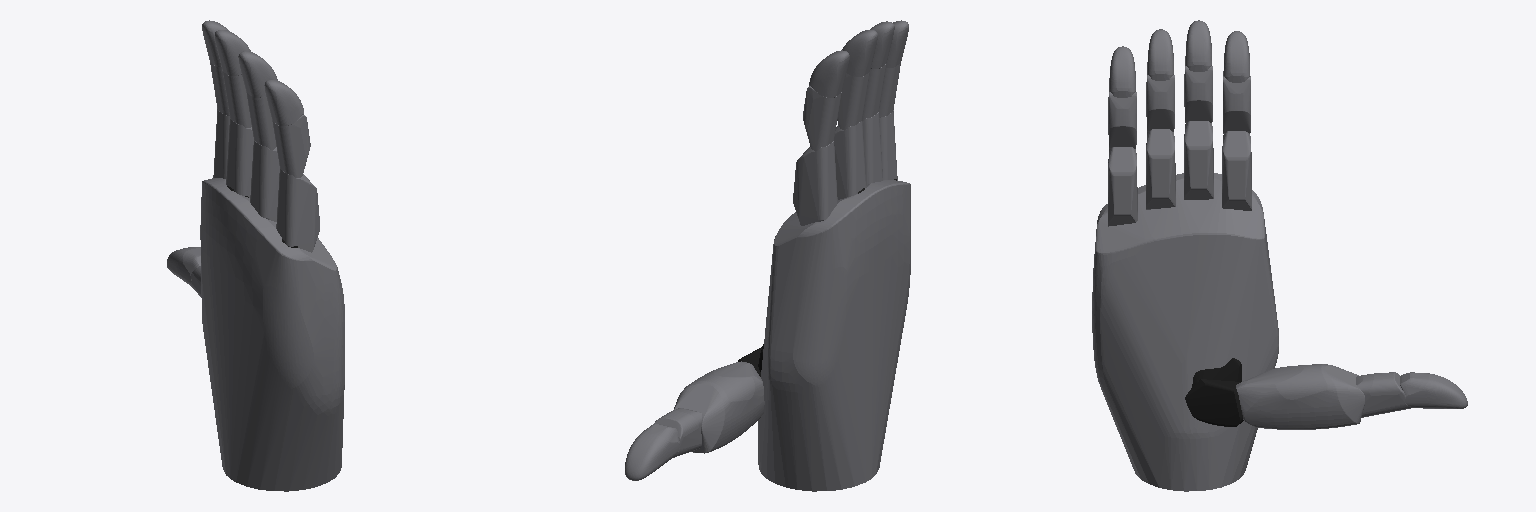
URDF robot description (linkerhand_l20_right):
<robot name="linkerhand_l20_right">
  <material name="silver">
    <color rgba="0.5 0.5 0.52 1.0" />
  </material>

  <material name="BlackAccent">
    <color rgba="0.15 0.15 0.15 1.0" />
  </material>
  <link name="base_link">
    <inertial>
      <origin xyz="-0.0116260966942382 -0.00274813279998326 0.0887556064299578" rpy="0 0 0" />
      <mass value="0.119355521222427" />
      <inertia ixx="0.000281608895823112" ixy="8.38474241472843E-07" ixz="-1.21134466138976E-05" iyy="0.00019328567036429" iyz="4.38631241419914E-07" izz="0.000103627416878272" />
    </inertial>
    <visual>
      <origin xyz="0 0 0" rpy="0 0 0" />
      <geometry>
        <mesh filename="../../../third_party/linkerhand-urdf/L20/right/meshes/base_link.STL" />
      </geometry>
      <material name="silver" />
    </visual>
    <collision>
      <origin xyz="0 0 0" rpy="0 0 0" />
      <geometry>
        <mesh filename="collision/base_link.STL" />
      </geometry>
    </collision>
  </link>
  <link name="pinky_metacarpals">
    <inertial>
      <origin xyz="0.0111783787153197 1.73988259632996E-08 0.00220160108534925" rpy="0 0 0" />
      <mass value="0.000876738307234833" />
      <inertia ixx="3.50684268310259E-08" ixy="-2.01255880662754E-13" ixz="5.24776532940736E-09" iyy="2.68810255289946E-08" iyz="-3.6732684106161E-14" izz="4.23561712818563E-08" />
    </inertial>
    <visual>
      <origin xyz="0 0 0" rpy="0 0 0" />
      <geometry>
        <mesh filename="../../../third_party/linkerhand-urdf/L20/right/meshes/pinky_metacarpals.STL" />
      </geometry>
      <material name="BlackAccent" />
    </visual>
    <collision>
      <origin xyz="0 0 0" rpy="0 0 0" />
      <geometry>
        <mesh filename="collision/pinky_metacarpals.STL" />
      </geometry>
    </collision>
  </link>
  <joint name="pinky_mcp_roll" type="revolute">
    <origin xyz="-0.028576 -0.038102 0.15031" rpy="0 0 0" />
    <parent link="base_link" />
    <child link="pinky_metacarpals" />
    <axis xyz="1 0 0" />
    <limit lower="-0.17" upper="0.17" effort="1" velocity="1" />
  </joint>
  <link name="pinky_proximal">
    <inertial>
      <origin xyz="-0.00112908280804496 -3.86673394475734E-06 0.0228400655439676" rpy="0 0 0" />
      <mass value="0.00451758867960127" />
      <inertia ixx="6.70005738245491E-07" ixy="1.07100998730671E-11" ixz="-2.60697889693044E-08" iyy="6.78910860635017E-07" iyz="1.619384302116E-10" izz="1.37487233622769E-07" />
    </inertial>
    <visual>
      <origin xyz="0 0 0" rpy="0 0 0" />
      <geometry>
        <mesh filename="../../../third_party/linkerhand-urdf/L20/right/meshes/pinky_proximal.STL" />
      </geometry>
      <material name="silver" />
    </visual>
    <collision>
      <origin xyz="0 0 0" rpy="0 0 0" />
      <geometry>
        <mesh filename="collision/pinky_proximal.STL" />
      </geometry>
    </collision>
  </link>
  <joint name="pinky_mcp_pitch" type="revolute">
    <origin xyz="0.016675 0 0" rpy="0 0 0" />
    <parent link="pinky_metacarpals" />
    <child link="pinky_proximal" />
    <axis xyz="0 1 0" />
    <limit lower="0" upper="1.4" effort="1" velocity="1" />
  </joint>
  <link name="pinky_middle">
    <inertial>
      <origin xyz="-0.000210918582412463 -2.91656475989721E-06 0.0168376013644396" rpy="0 0 0" />
      <mass value="0.00240742140800545" />
      <inertia ixx="2.37171034123177E-07" ixy="-2.70991764305561E-12" ixz="-1.39296056921613E-08" iyy="1.83342187871652E-07" iyz="3.74983864753835E-12" izz="9.8226350069222E-08" />
    </inertial>
    <visual>
      <origin xyz="0 0 0" rpy="0 0 0" />
      <geometry>
        <mesh filename="../../../third_party/linkerhand-urdf/L20/right/meshes/pinky_middle.STL" />
      </geometry>
      <material name="silver" />
    </visual>
    <collision>
      <origin xyz="0 0 0" rpy="0 0 0" />
      <geometry>
        <mesh filename="collision/pinky_middle.STL" />
      </geometry>
    </collision>
  </link>
  <joint name="pinky_pip" type="revolute">
    <origin xyz="-0.00419455244191127 1.32099958100595E-05 0.0448194355633776" rpy="0 0 0" />
    <parent link="pinky_proximal" />
    <child link="pinky_middle" />
    <axis xyz="0 1 0" />
    <limit lower="0" upper="1.57" effort="1" velocity="1" />
  </joint>
  <link name="pinky_distal">
    <inertial>
      <origin xyz="-0.00807040294887727 -1.95860163051398E-05 0.00803087332396402" rpy="0 0 0" />
      <mass value="0.00337412669848792" />
      <inertia ixx="1.62067265373363E-07" ixy="-1.03084161797139E-10" ixz="-5.96264453601984E-08" iyy="1.79090083193527E-07" iyz="1.05530293251026E-10" izz="1.32918139665313E-07" />
    </inertial>
    <visual>
      <origin xyz="0 0 0" rpy="0 0 0" />
      <geometry>
        <mesh filename="../../../third_party/linkerhand-urdf/L20/right/meshes/pinky_distal.STL" />
      </geometry>
      <material name="silver" />
    </visual>
    <collision>
      <origin xyz="0 0 0" rpy="0 0 0" />
      <geometry>
        <mesh filename="collision/pinky_distal.STL" />
      </geometry>
    </collision>
  </link>
  <joint name="pinky_dip" type="revolute">
    <origin xyz="0.0027556 0 0.031702" rpy="0 0 0" />
    <parent link="pinky_middle" />
    <child link="pinky_distal" />
    <axis xyz="0 1 0" />
    <limit lower="0" upper="1.4" effort="1" velocity="1" />
    </joint>
  <link name="ring_metacarpals">
    <inertial>
      <origin xyz="0.0111783787153197 -5.36905619352712E-07 0.0022016396219149" rpy="0 0 0" />
      <mass value="0.000876738307234883" />
      <inertia ixx="3.5068426831027E-08" ixy="-2.01255880718238E-13" ixz="5.24776532940712E-09" iyy="2.68810255289954E-08" iyz="-3.67326835665223E-14" izz="4.23561712818567E-08" />
    </inertial>
    <visual>
      <origin xyz="0 0 0" rpy="0 0 0" />
      <geometry>
        <mesh filename="../../../third_party/linkerhand-urdf/L20/right/meshes/ring_metacarpals.STL" />
      </geometry>
      <material name="BlackAccent" />
    </visual>
    <collision>
      <origin xyz="0 0 0" rpy="0 0 0" />
      <geometry>
        <mesh filename="collision/ring_metacarpals.STL" />
      </geometry>
    </collision>
  </link>
  <joint name="ring_mcp_roll" type="revolute">
    <origin xyz="-0.032199 -0.016502 0.15931" rpy="0 0 0" />
    <parent link="base_link" />
    <child link="ring_metacarpals" />
    <axis xyz="1 0 0" />
    <limit lower="-0.17" upper="0.17" effort="1" velocity="1" />
  </joint>
  <link name="ring_proximal">
    <inertial>
      <origin xyz="-0.00112908262583935 -1.70769630077061E-05 0.0228400659770985" rpy="0 0 0" />
      <mass value="0.00451758885102983" />
      <inertia ixx="6.70005760179099E-07" ixy="1.07124239123891E-11" ixz="-2.60697922383748E-08" iyy="6.78910876105749E-07" iyz="1.61928071276549E-10" izz="1.37487241358748E-07" />
    </inertial>
    <visual>
      <origin xyz="0 0 0" rpy="0 0 0" />
      <geometry>
        <mesh filename="../../../third_party/linkerhand-urdf/L20/right/meshes/ring_proximal.STL" />
      </geometry>
      <material name="silver" />
    </visual>
    <collision>
      <origin xyz="0 0 0" rpy="0 0 0" />
      <geometry>
        <mesh filename="collision/ring_proximal.STL" />
      </geometry>
    </collision>
  </link>
  <joint name="ring_mcp_pitch" type="revolute">
    <origin xyz="0.016675 1.2656E-05 0" rpy="0 0 0" />
    <parent link="ring_metacarpals" />
    <child link="ring_proximal" />
    <axis xyz="0 1 0" />
    <limit lower="0" upper="1.4" effort="1" velocity="1" />
  </joint>
  <link name="ring_middle">
    <inertial>
      <origin xyz="-0.00021091859446306 -2.91657898018882E-06 0.0168376013345287" rpy="0 0 0" />
      <mass value="0.00240742140052362" />
      <inertia ixx="2.37171033138143E-07" ixy="-2.7100414951465E-12" ixz="-1.39296060459522E-08" iyy="1.83342186859774E-07" iyz="3.74956284923257E-12" izz="9.82263498201999E-08" />
    </inertial>
    <visual>
      <origin xyz="0 0 0" rpy="0 0 0" />
      <geometry>
        <mesh filename="../../../third_party/linkerhand-urdf/L20/right/meshes/ring_middle.STL" />
      </geometry>
      <material name="silver" />
    </visual>
    <collision>
      <origin xyz="0 0 0" rpy="0 0 0" />
      <geometry>
        <mesh filename="collision/ring_middle.STL" />
      </geometry>
    </collision>
  </link>
  <joint name="ring_pip" type="revolute">
    <origin xyz="-0.00419455244174995 0 0.0448194355645609" rpy="0 0 0" />
    <parent link="ring_proximal" />
    <child link="ring_middle" />
    <axis xyz="0 1 0" />
    <limit lower="0" upper="1.57" effort="1" velocity="1" />
  </joint>
  <link name="ring_distal">
    <inertial>
      <origin xyz="-0.00807040294866931 -1.9586017669021E-05 0.00803087256062983" rpy="0 0 0" />
      <mass value="0.0033741266986076" />
      <inertia ixx="1.6206726538022E-07" ixy="-1.03084186529573E-10" ixz="-5.96264453639804E-08" iyy="1.79090083161836E-07" iyz="1.05530278574068E-10" izz="1.32918139683415E-07" />
    </inertial>
    <visual>
      <origin xyz="0 0 0" rpy="0 0 0" />
      <geometry>
        <mesh filename="../../../third_party/linkerhand-urdf/L20/right/meshes/ring_distal.STL" />
      </geometry>
      <material name="silver" />
    </visual>
    <collision>
      <origin xyz="0 0 0" rpy="0 0 0" />
      <geometry>
        <mesh filename="collision/ring_distal.STL" />
      </geometry>
    </collision>
  </link>
  <joint name="ring_dip" type="revolute">
    <origin xyz="0.00275561956405355 0 0.0317024252327154" rpy="0 0 0" />
    <parent link="ring_middle" />
    <child link="ring_distal" />
    <axis xyz="0 1 0" />
    <limit lower="0" upper="1.4" effort="1" velocity="1" />
    </joint>
  <link name="middle_metacarpals">
    <inertial>
      <origin xyz="0.0111783787153198 -5.36905619463734E-07 0.00220163962191467" rpy="0 0 0" />
      <mass value="0.000876738307234834" />
      <inertia ixx="3.50684268310259E-08" ixy="-2.0125588061605E-13" ixz="5.24776532940725E-09" iyy="2.68810255289945E-08" iyz="-3.67326839308491E-14" izz="4.23561712818563E-08" />
    </inertial>
    <visual>
      <origin xyz="0 0 0" rpy="0 0 0" />
      <geometry>
        <mesh filename="../../../third_party/linkerhand-urdf/L20/right/meshes/middle_metacarpals.STL" />
      </geometry>
      <material name="BlackAccent" />
    </visual>
    <collision>
      <origin xyz="0 0 0" rpy="0 0 0" />
      <geometry>
        <mesh filename="collision/middle_metacarpals.STL" />
      </geometry>
    </collision>
  </link>
  <joint name="middle_mcp_roll" type="revolute">
    <origin xyz="-0.0345042006792679 0.00509811417717426 0.163804307612682" rpy="0 0 0" />
    <parent link="base_link" />
    <child link="middle_metacarpals" />
    <axis xyz="0.999999999998204 0 0" />
    <limit lower="-0.17" upper="0.17" effort="1" velocity="1" />
  </joint>
  <link name="middle_proximal">
    <inertial>
      <origin xyz="-0.00112908264667504 -1.70765644096349E-05 0.0228400658126111" rpy="0 0 0" />
      <mass value="0.00451758879836063" />
      <inertia ixx="6.70005750213689E-07" ixy="1.0709683946819E-11" ixz="-2.60697892463952E-08" iyy="6.7891086764891E-07" iyz="1.61944386240367E-10" izz="1.37487237816443E-07" />
    </inertial>
    <visual>
      <origin xyz="0 0 0" rpy="0 0 0" />
      <geometry>
        <mesh filename="../../../third_party/linkerhand-urdf/L20/right/meshes/middle_proximal.STL" />
      </geometry>
      <material name="silver" />
    </visual>
    <collision>
      <origin xyz="0 0 0" rpy="0 0 0" />
      <geometry>
        <mesh filename="collision/middle_proximal.STL" />
      </geometry>
    </collision>
  </link>
  <joint name="middle_mcp_pitch" type="revolute">
    <origin xyz="0.0166748095398548 1.26556862705962E-05 0" rpy="0 0 0" />
    <parent link="middle_metacarpals" />
    <child link="middle_proximal" />
    <axis xyz="0 1 0" />
    <limit lower="0" upper="1.4" effort="1" velocity="1" />
  </joint>
  <link name="middle_middle">
    <inertial>
      <origin xyz="-0.000210918582531389 -2.91656481549163E-06 0.0168376013611927" rpy="0 0 0" />
      <mass value="0.00240742140799016" />
      <inertia ixx="2.3717103371746E-07" ixy="-2.70991790215455E-12" ixz="-1.39296056849284E-08" iyy="1.83342187462169E-07" iyz="3.74983812024697E-12" izz="9.82263500660551E-08" />
    </inertial>
    <visual>
      <origin xyz="0 0 0" rpy="0 0 0" />
      <geometry>
        <mesh filename="../../../third_party/linkerhand-urdf/L20/right/meshes/middle_middle.STL" />
      </geometry>
      <material name="silver" />
    </visual>
    <collision>
      <origin xyz="0 0 0" rpy="0 0 0" />
      <geometry>
        <mesh filename="collision/middle_middle.STL" />
      </geometry>
    </collision>
  </link>
  <joint name="middle_pip" type="revolute">
    <origin xyz="-0.00419455244189623 0 0.0448194355665477" rpy="0 0 0" />
    <parent link="middle_proximal" />
    <child link="middle_middle" />
    <axis xyz="0 1 0" />
    <limit lower="0" upper="1.57" effort="1" velocity="1" />
  </joint>
  <link name="middle_distal">
    <inertial>
      <origin xyz="-0.00807040294827011 -1.95860161913697E-05 0.00803087332606282" rpy="0 0 0" />
      <mass value="0.00337412669879527" />
      <inertia ixx="1.62067265406276E-07" ixy="-1.03084160292156E-10" ixz="-5.96264453651413E-08" iyy="1.79090083197241E-07" iyz="1.05530287328658E-10" izz="1.32918139683668E-07" />
    </inertial>
    <visual>
      <origin xyz="0 0 0" rpy="0 0 0" />
      <geometry>
        <mesh filename="../../../third_party/linkerhand-urdf/L20/right/meshes/middle_distal.STL" />
      </geometry>
      <material name="silver" />
    </visual>
    <collision>
      <origin xyz="0 0 0" rpy="0 0 0" />
      <geometry>
        <mesh filename="collision/middle_distal.STL" />
      </geometry>
    </collision>
  </link>
  <joint name="middle_dip" type="revolute">
    <origin xyz="0.00275561956368908 0 0.031702425228504" rpy="0 0 0" />
    <parent link="middle_middle" />
    <child link="middle_distal" />
    <axis xyz="0 1 0" />
    <limit lower="0" upper="1.4" effort="1" velocity="1" />
    </joint>
  <link name="index_metacarpals">
    <inertial>
      <origin xyz="0.0111783787153197 -5.36905619408223E-07 0.0022016396219149" rpy="0 0 0" />
      <mass value="0.000876738307234888" />
      <inertia ixx="3.50684268310272E-08" ixy="-2.01255880639633E-13" ixz="5.24776532940715E-09" iyy="2.68810255289955E-08" iyz="-3.67326838815665E-14" izz="4.23561712818569E-08" />
    </inertial>
    <visual>
      <origin xyz="0 0 0" rpy="0 0 0" />
      <geometry>
        <mesh filename="../../../third_party/linkerhand-urdf/L20/right/meshes/index_metacarpals.STL" />
      </geometry>
      <material name="BlackAccent" />
    </visual>
    <collision>
      <origin xyz="0 0 0" rpy="0 0 0" />
      <geometry>
        <mesh filename="collision/index_metacarpals.STL" />
      </geometry>
    </collision>
  </link>
  <joint name="index_mcp_roll" type="revolute">
    <origin xyz="-0.0297703583048348 0.026698113515616 0.159311418025823" rpy="0 0 0" />
    <parent link="base_link" />
    <child link="index_metacarpals" />
    <axis xyz="0.999999999998204 0 0" />
    <limit lower="-0.17" upper="0.17" effort="1" velocity="1" />
  </joint>
  <link name="index_proximal">
    <inertial>
      <origin xyz="-0.00112908264491655 -3.86657489762077E-06 0.0228400658147424" rpy="0 0 0" />
      <mass value="0.00451758879934099" />
      <inertia ixx="6.70005750303174E-07" ixy="1.07096827382529E-11" ixz="-2.60697892451836E-08" iyy="6.78910867706126E-07" iyz="1.61944343361799E-10" izz="1.37487237848926E-07" />
    </inertial>
    <visual>
      <origin xyz="0 0 0" rpy="0 0 0" />
      <geometry>
        <mesh filename="../../../third_party/linkerhand-urdf/L20/right/meshes/index_proximal.STL" />
      </geometry>
      <material name="silver" />
    </visual>
    <collision>
      <origin xyz="0 0 0" rpy="0 0 0" />
      <geometry>
        <mesh filename="collision/index_proximal.STL" />
      </geometry>
    </collision>
  </link>
  <joint name="index_mcp_pitch" type="revolute">
    <origin xyz="0.0166748095646496 0 0" rpy="0 0 0" />
    <parent link="index_metacarpals" />
    <child link="index_proximal" />
    <axis xyz="0 1 0" />
    <limit lower="0" upper="1.4" effort="1" velocity="1" />
  </joint>
  <link name="index_middle">
    <inertial>
      <origin xyz="-0.000210918632589208 -2.91655816400671E-06 0.0168376013550637" rpy="0 0 0" />
      <mass value="0.00240742140798158" />
      <inertia ixx="2.37171033813523E-07" ixy="-2.70992594914544E-12" ixz="-1.3929605674102E-08" iyy="1.83342187562481E-07" iyz="3.74988422279869E-12" izz="9.82263500700157E-08" />
    </inertial>
    <visual>
      <origin xyz="0 0 0" rpy="0 0 0" />
      <geometry>
        <mesh filename="../../../third_party/linkerhand-urdf/L20/right/meshes/index_middle.STL" />
      </geometry>
      <material name="silver" />
    </visual>
    <collision>
      <origin xyz="0 0 0" rpy="0 0 0" />
      <geometry>
        <mesh filename="collision/index_middle.STL" />
      </geometry>
    </collision>
  </link>
  <joint name="index_pip" type="revolute">
    <origin xyz="-0.00419455239160021 1.32099983796707E-05 0.0448194355727413" rpy="0 0 0" />
    <parent link="index_proximal" />
    <child link="index_middle" />
    <axis xyz="0 1 0" />
    <limit lower="0" upper="1.57" effort="1" velocity="1" />
  </joint>
  <link name="index_distal">
    <inertial>
      <origin xyz="-0.00807040294819541 -1.95860155396688E-05 0.00803087332614133" rpy="0 0 0" />
      <mass value="0.0033741266988187" />
      <inertia ixx="1.62067265427891E-07" ixy="-1.030841487474E-10" ixz="-5.96264453690637E-08" iyy="1.79090083185726E-07" iyz="1.05530285191432E-10" izz="1.32918139694536E-07" />
    </inertial>
    <visual>
      <origin xyz="0 0 0" rpy="0 0 0" />
      <geometry>
        <mesh filename="../../../third_party/linkerhand-urdf/L20/right/meshes/index_distal.STL" />
      </geometry>
      <material name="silver" />
    </visual>
    <collision>
      <origin xyz="0 0 0" rpy="0 0 0" />
      <geometry>
        <mesh filename="collision/index_distal.STL" />
      </geometry>
    </collision>
  </link>
  <joint name="index_dip" type="revolute">
    <origin xyz="0.00275561951363186 0 0.0317024252223218" rpy="0 0 0" />
    <parent link="index_middle" />
    <child link="index_distal" />
    <axis xyz="0 1 0" />
    <limit lower="0" upper="1.4" effort="1" velocity="1" />
    </joint>
  <link name="thumb_metacarpals_base1">
    <inertial>
      <origin xyz="0.00225106540143255 0.0106280781314811 0.00386496887062775" rpy="0 0 0" />
      <mass value="0.0123197273270212" />
      <inertia ixx="3.08398596758481E-06" ixy="-7.90434968870597E-08" ixz="4.99257949343636E-08" iyy="4.73419522678173E-06" iyz="-1.89397292598919E-07" izz="2.03268500392085E-06" />
    </inertial>
    <visual>
      <origin xyz="0 0 0" rpy="0 0 0" />
      <geometry>
        <mesh filename="../../../third_party/linkerhand-urdf/L20/right/meshes/thumb_metacarpals_base1.STL" />
      </geometry>
      <material name="BlackAccent" />
    </visual>
    <collision>
      <origin xyz="0 0 0" rpy="0 0 0" />
      <geometry>
        <mesh filename="collision/thumb_metacarpals_base1.STL" />
      </geometry>
    </collision>
  </link>
  <joint name="thumb_cmc_yaw" type="revolute">
    <origin xyz="0.0039847 0.0050818 0.057392" rpy="3.1416 0 1.5708" />
    <parent link="base_link" />
    <child link="thumb_metacarpals_base1" />
    <axis xyz="0 1 0" />
    <limit lower="0" upper="1.4" effort="1" velocity="1" />
  </joint>
  <link name="thumb_metacarpals_base2">
    <inertial>
      <origin xyz="0.00119794122046318 0.00176288166433086 0.00980405746394286" rpy="0 0 0" />
      <mass value="0.00459776097124383" />
      <inertia ixx="7.31648689063878E-07" ixy="-4.16925980705595E-08" ixz="7.27793121012466E-08" iyy="5.38489639105841E-07" iyz="-1.05409912056041E-07" izz="3.72559163410338E-07" />
    </inertial>
    <visual>
      <origin xyz="0 0 0" rpy="0 0 0" />
      <geometry>
        <mesh filename="../../../third_party/linkerhand-urdf/L20/right/meshes/thumb_metacarpals_base2.STL" />
      </geometry>
      <material name="BlackAccent" />
    </visual>
    <collision>
      <origin xyz="0 0 0" rpy="0 0 0" />
      <geometry>
        <mesh filename="collision/thumb_metacarpals_base2.STL" />
      </geometry>
    </collision>
  </link>
  <joint name="thumb_cmc_roll" type="revolute">
    <origin xyz="0.000784740002368223 0.0196077603627024 0.000308721957079858" rpy="1.18264333118745 0 1.57079632679503" />
    <parent link="thumb_metacarpals_base1" />
    <child link="thumb_metacarpals_base2" />
    <axis xyz="0 1 0" />
    <limit lower="0" upper="1.22" effort="1" velocity="1" />
  </joint>
  <link name="thumb_metacarpals">
    <inertial>
      <origin xyz="0.00549384865796482 0.00805524685758721 0.0258290762784949" rpy="0 0 0" />
      <mass value="0.0119728760675928" />
      <inertia ixx="4.12796153480032E-06" ixy="2.08264516047914E-08" ixz="1.78085589076533E-08" iyy="4.82110081302191E-06" iyz="6.19419770800233E-08" izz="1.21324079339986E-06" />
    </inertial>
    <visual>
      <origin xyz="0 0 0" rpy="0 0 0" />
      <geometry>
        <mesh filename="../../../third_party/linkerhand-urdf/L20/right/meshes/thumb_metacarpals.STL" />
      </geometry>
      <material name="silver" />
    </visual>
    <collision>
      <origin xyz="0 0 0" rpy="0 0 0" />
      <geometry>
        <mesh filename="collision/thumb_metacarpals.STL" />
      </geometry>
    </collision>
  </link>
  <joint name="thumb_cmc_pitch" type="revolute">
    <origin xyz="-0.000109690908352875 -0.00396440679180957 0.0307945044045898" rpy="0 0.388152995607441 -1.57079632624948" />
    <parent link="thumb_metacarpals_base2" />
    <child link="thumb_metacarpals" />
    <axis xyz="0 1 0" />
    <limit lower="0" upper="0.79" effort="1" velocity="1" />
  </joint>
  <link name="thumb_proximal">
    <inertial>
      <origin xyz="-0.0011057174593414 0.000334119020688653 0.0128607021591473" rpy="0 0 0" />
      <mass value="0.00515940162015082" />
      <inertia ixx="4.56371524641978E-07" ixy="1.15255552260169E-09" ixz="8.11361744697202E-08" iyy="6.16289154720601E-07" iyz="5.36536229784869E-09" izz="2.4689422432426E-07" />
    </inertial>
    <visual>
      <origin xyz="0 0 0" rpy="0 0 0" />
      <geometry>
        <mesh filename="../../../third_party/linkerhand-urdf/L20/right/meshes/thumb_proximal.STL" />
      </geometry>
      <material name="silver" />
    </visual>
    <collision>
      <origin xyz="0 0 0" rpy="0 0 0" />
      <geometry>
        <mesh filename="collision/thumb_proximal.STL" />
      </geometry>
    </collision>
  </link>
  <joint name="thumb_mcp" type="revolute">
    <origin xyz="0.00857856380171737 0 0.0555715948082196" rpy="0 0 0" />
    <parent link="thumb_metacarpals" />
    <child link="thumb_proximal" />
    <axis xyz="0 1 0" />
    <limit lower="0" upper="1.05" effort="1" velocity="1" />
  </joint>
  <link name="thumb_distal">
    <inertial>
      <origin xyz="-0.00636210776657178 4.14651450399844E-05 0.0118150620527104" rpy="0 0 0" />
      <mass value="0.00614449456083594" />
      <inertia ixx="3.71418540379979E-07" ixy="2.36548498459678E-10" ixz="-9.49666673834207E-08" iyy="4.48768445500361E-07" iyz="-9.82614466952934E-10" izz="1.66160918259876E-07" />
    </inertial>
    <visual>
      <origin xyz="0 0 0" rpy="0 0 0" />
      <geometry>
        <mesh filename="../../../third_party/linkerhand-urdf/L20/right/meshes/thumb_distal.STL" />
      </geometry>
      <material name="silver" />
    </visual>
    <collision>
      <origin xyz="0 0 0" rpy="0 0 0" />
      <geometry>
        <mesh filename="collision/thumb_distal.STL" />
      </geometry>
    </collision>
  </link>
  <joint name="thumb_dip" type="revolute">
    <origin xyz="0.0066653832125308 0 0.0342561774516276" rpy="0 0 0" />
    <parent link="thumb_proximal" />
    <child link="thumb_distal" />
    <axis xyz="0 1 0" />
    <limit lower="0" upper="1.22" effort="1" velocity="1" />
    </joint>
</robot>

--- What the picture shows (computed from the rendered views, not written in the file) ---
Views: 3 orthographic renders of the robot side by side, from view 1: azimuth 30°, elevation 25°; view 2: azimuth 150°, elevation 25°; view 3: azimuth 270°, elevation 25°.
Model linkerhand_l20_right with 22 links and 21 joints (21 revolute), rooted at base_link, posed every joint at zero.
Links seen in each view (by area): view 1: base_link, pinky_proximal, ring_proximal, middle_proximal, pinky_middle, pinky_distal, ring_distal, ring_middle, middle_distal, middle_middle, thumb_distal, index_proximal (+2 smaller); view 2: base_link, thumb_metacarpals, index_proximal, thumb_distal, middle_proximal, index_middle, index_distal, thumb_proximal, middle_middle, middle_distal, ring_proximal, pinky_proximal (+4 smaller); view 3: base_link, thumb_metacarpals, ring_proximal, middle_proximal, index_proximal, pinky_proximal, thumb_metacarpals_base2, thumb_distal, thumb_proximal, pinky_middle, middle_middle, ring_middle (+6 smaller).
Boxes of the visible links, x1,y1,x2,y2 form: base_link: [200, 178, 344, 491]; pinky_proximal: [276, 169, 319, 252]; ring_proximal: [250, 141, 279, 221]; middle_proximal: [226, 119, 253, 197]; pinky_middle: [272, 115, 310, 177]; pinky_distal: [264, 80, 303, 125]; ring_distal: [238, 51, 277, 97]; ring_middle: [246, 92, 275, 149]; middle_distal: [215, 30, 250, 75]; middle_middle: [223, 72, 251, 127]; thumb_distal: [167, 247, 200, 285]; index_proximal: [213, 109, 229, 178]; base_link: [758, 180, 910, 491]; thumb_metacarpals: [674, 361, 764, 453]; index_proximal: [793, 141, 837, 225]; thumb_distal: [625, 424, 679, 480]; middle_proximal: [834, 121, 865, 199]; index_middle: [803, 86, 841, 150]; index_distal: [809, 50, 849, 97]; thumb_proximal: [654, 408, 701, 457]; middle_middle: [837, 72, 869, 129]; middle_distal: [842, 30, 877, 76]; ring_proximal: [863, 112, 882, 184]; pinky_proximal: [879, 110, 897, 179]; base_link: [1092, 173, 1278, 491]; thumb_metacarpals: [1236, 364, 1364, 429]; ring_proximal: [1146, 129, 1175, 209]; middle_proximal: [1184, 121, 1213, 199]; index_proximal: [1222, 131, 1251, 210]; pinky_proximal: [1108, 147, 1137, 226]; thumb_metacarpals_base2: [1185, 379, 1243, 426]; thumb_distal: [1400, 372, 1467, 408]; thumb_proximal: [1356, 372, 1411, 417]; pinky_middle: [1108, 92, 1136, 148]; middle_middle: [1184, 66, 1212, 122]; ring_middle: [1146, 75, 1174, 131].
Bounding box of the posed robot: 0.0767 × 0.2132 × 0.2634 m (x, y, z).
Meshes: 22 distinct files referenced, 20 mesh visuals loaded (20 binary STL); not drawn: 2 (reference not matched to a file when rendering).
